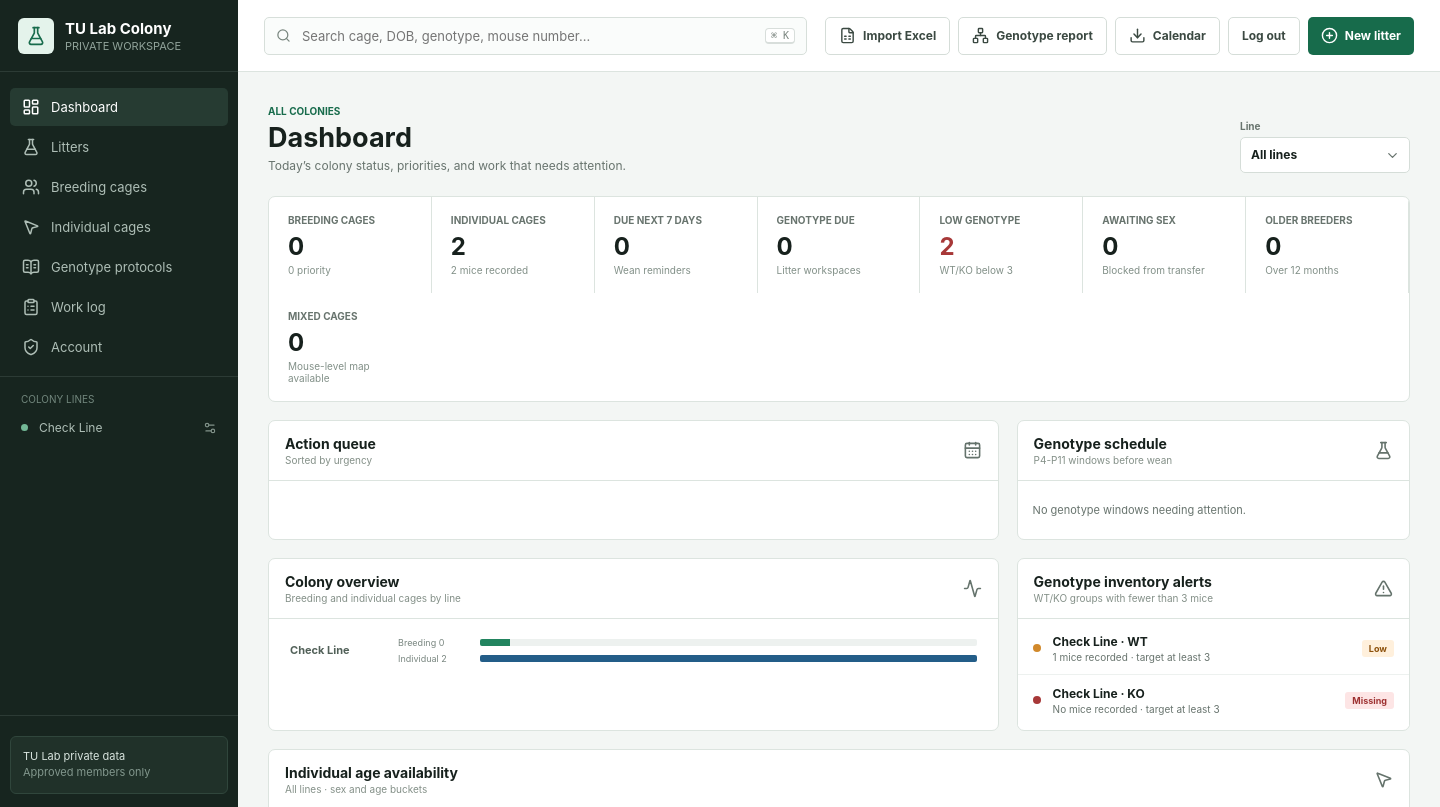
Test case: colony line filtering › drills from dashboard age availability into the matching individual cages
Click the button "Check Line" at [104, 428], box [14, 413, 193, 442]
(page scrolled)
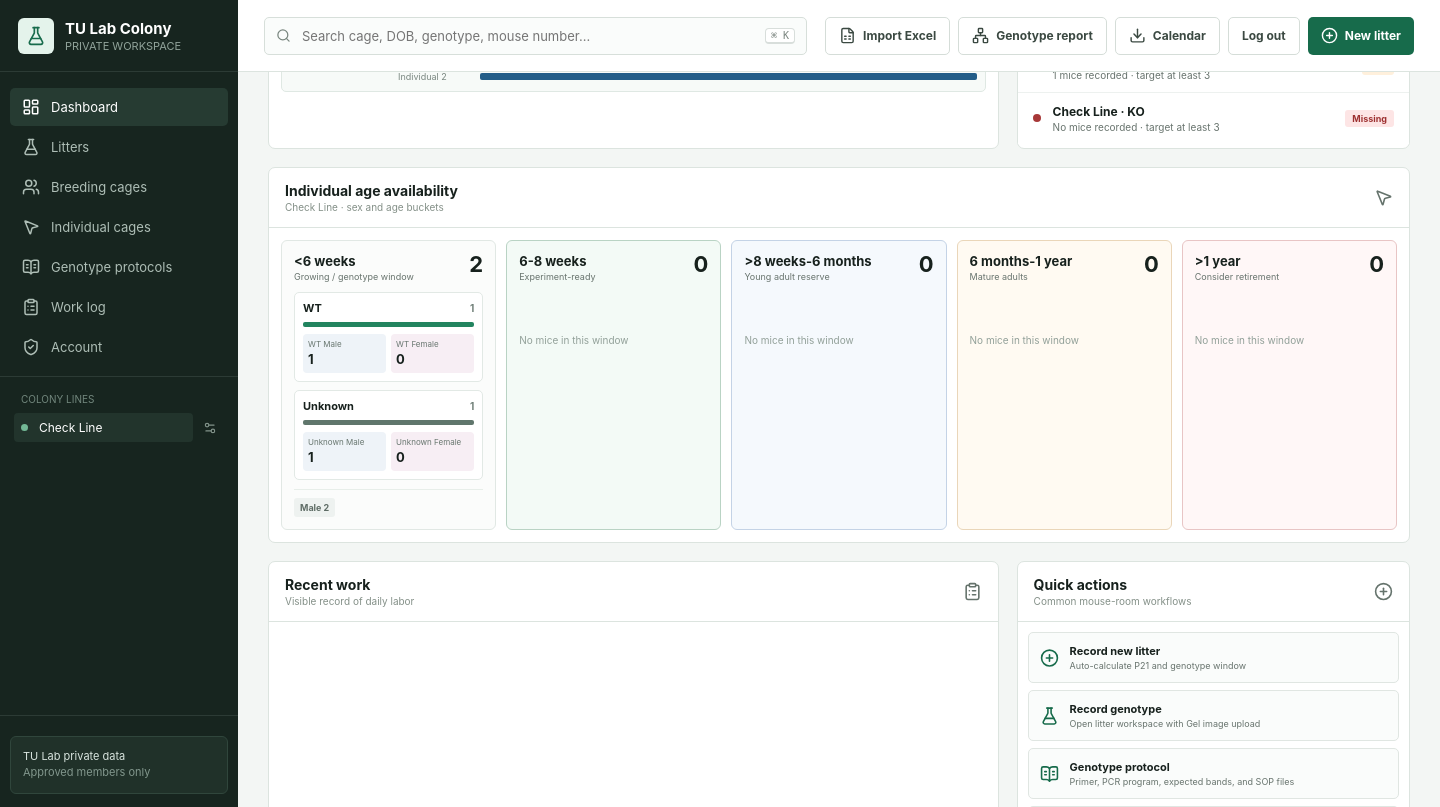
Click the button with aria-label "Show <6 weeks Unknown individual cages" at [389, 406], box [303, 399, 474, 413]
(page scrolled)
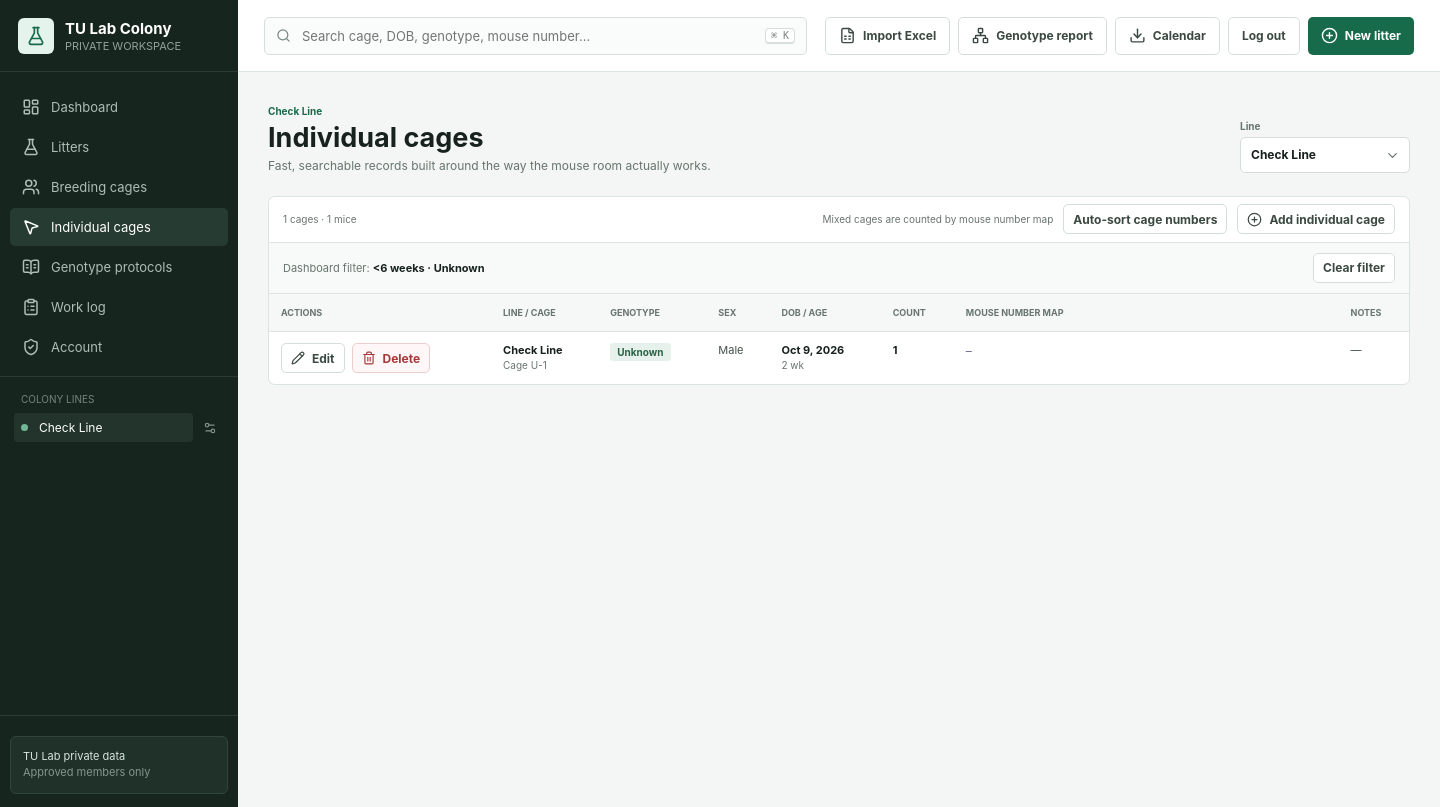
Expected: the heading "Individual cages" is shown, [268, 121, 484, 154]
Expected: the text "Dashboard filter:" is shown, [283, 261, 373, 275]
Expected: the text "<6 weeks · Unknown" is shown, [373, 261, 485, 275]
Click the button "Clear filter" at [1354, 268], box [1313, 253, 1395, 283]
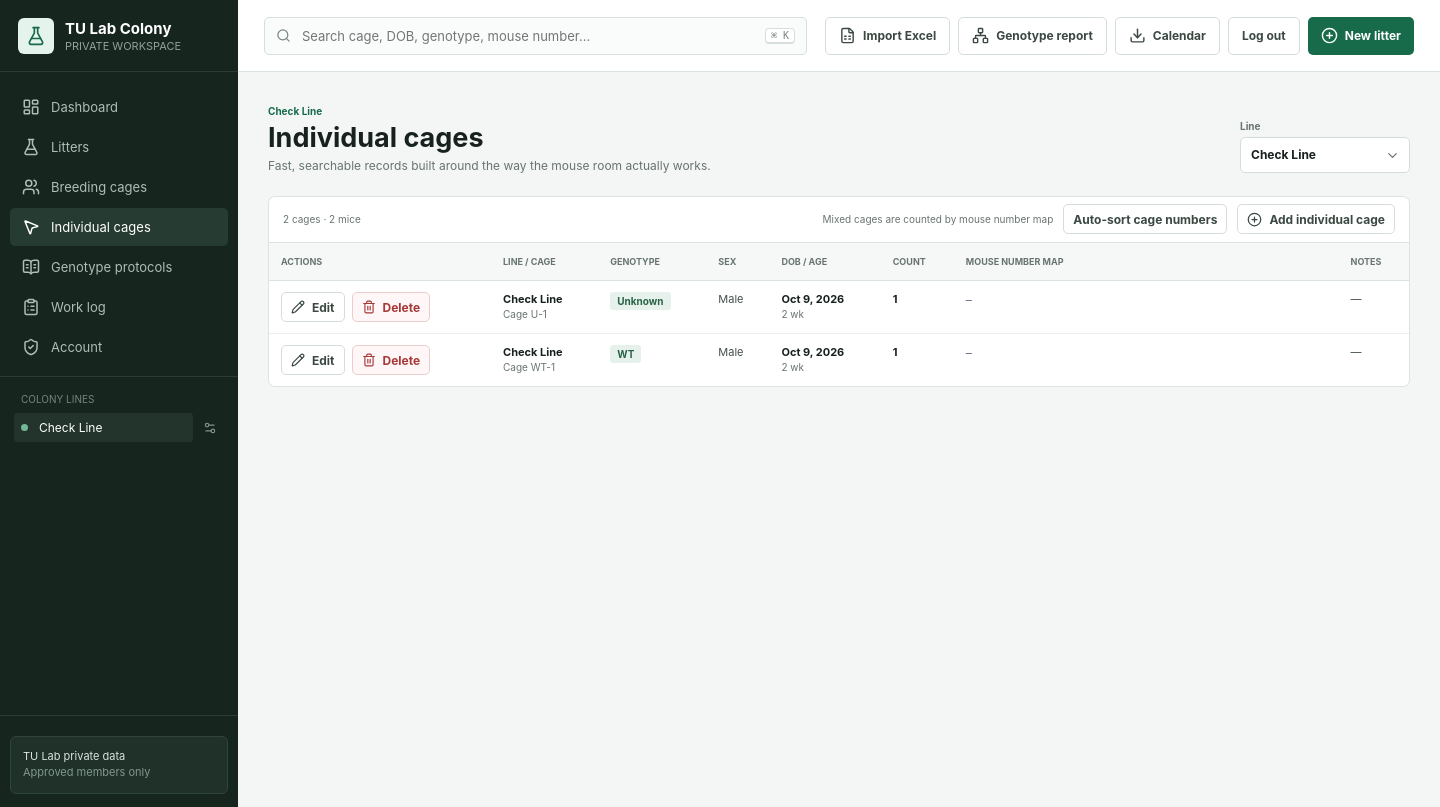
Expected: the text "Cage WT-1" is shown, [503, 361, 555, 373]
